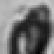correct: (7, 0, 54, 54)
